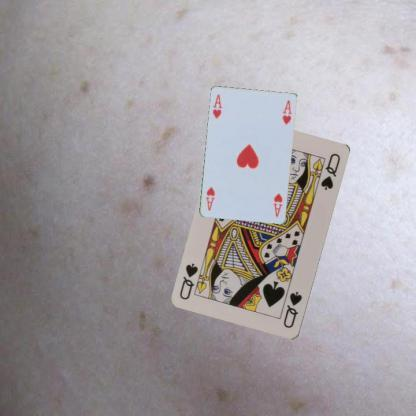Ah: (271, 192, 284, 219), (210, 92, 222, 119)
Qs: (281, 289, 304, 330)
